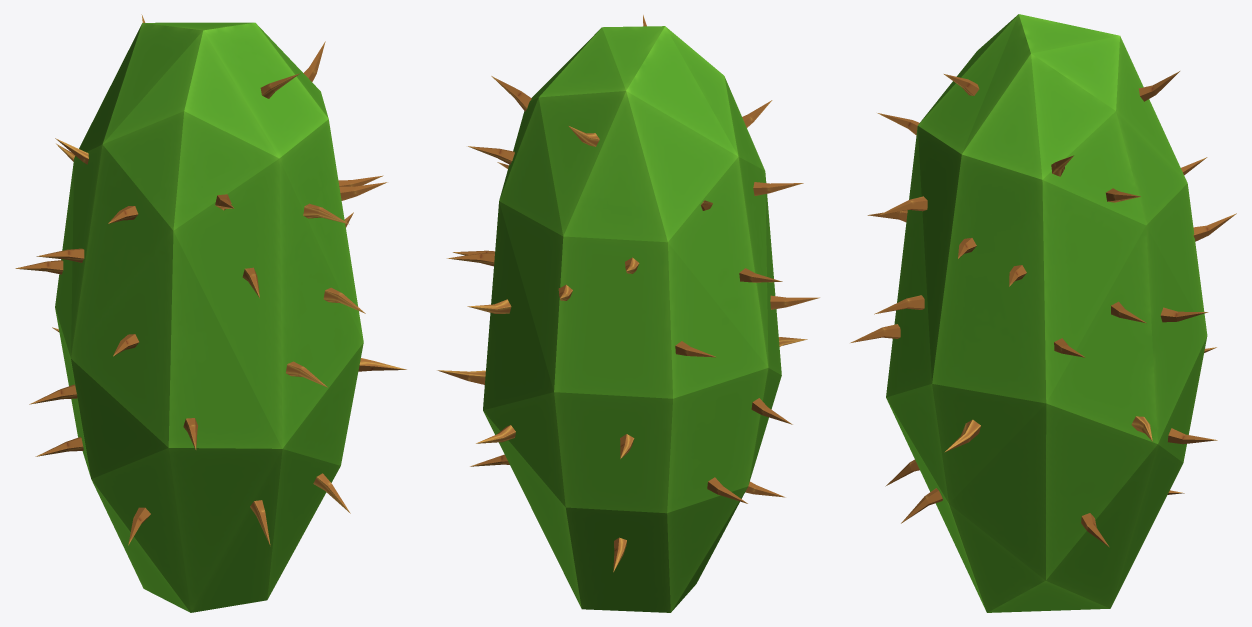
Rendered from Cactus_25.fbx.
The picture shows the model from 3 angles, left to right: view 1: azimuth 30°, elevation 25°; view 2: azimuth 150°, elevation 25°; view 3: azimuth 270°, elevation 25°; orthographic projection. The views are drawn at different scales.
Parts seen in each view (by area): view 1: Cactus_25; view 2: Cactus_25; view 3: Cactus_25.
Boxes of the visible parts, box(x1,y1,x2,y2) form: Cactus_25: box(15, 14, 406, 612); Cactus_25: box(437, 15, 819, 612); Cactus_25: box(850, 14, 1236, 612).
Size of the model in its own units: 19.45 by 31.46 by 19.24.
